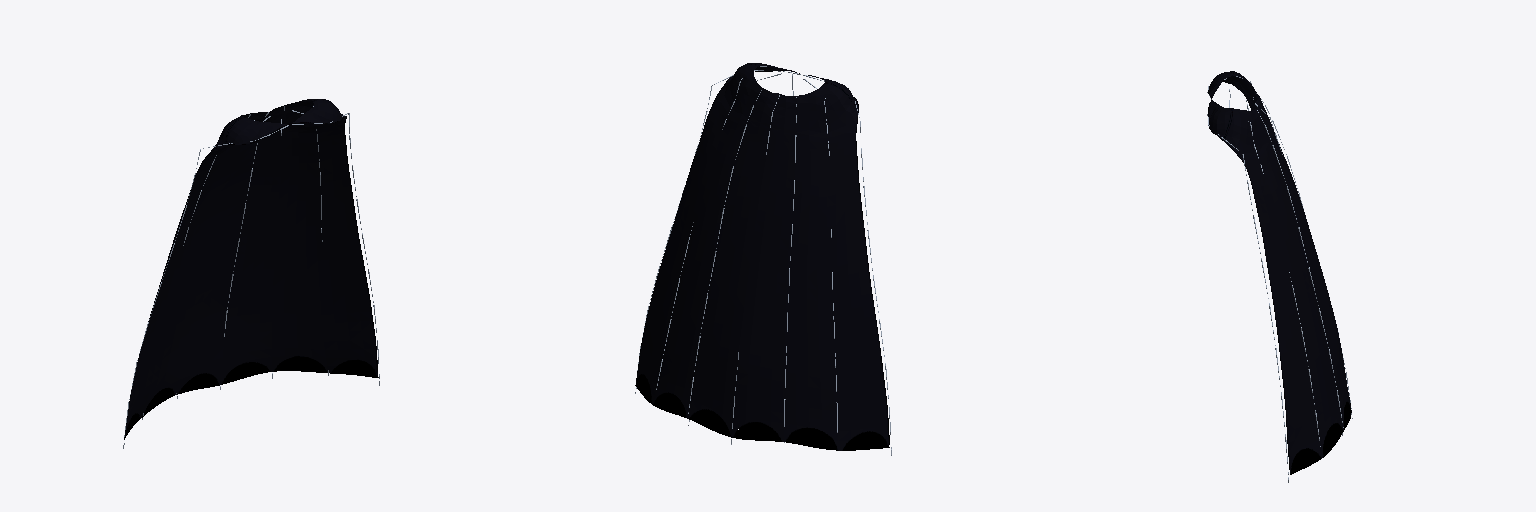
3 views of the same model, side by side, from view 1: azimuth 30°, elevation 25°; view 2: azimuth 150°, elevation 25°; view 3: azimuth 270°, elevation 25° (orthographic).
Visible parts, largest first — view 1: Cape_Mesh_D; view 2: Cape_Mesh_D; view 3: Cape_Mesh_D.
Part boxes in pixels (x1,y1,x2,y2): Cape_Mesh_D: (124, 99, 378, 439); Cape_Mesh_D: (635, 63, 889, 450); Cape_Mesh_D: (1208, 71, 1351, 474).
Size of the model in its own units: 155 by 191 by 75.98.
2 materials, 1 textured.